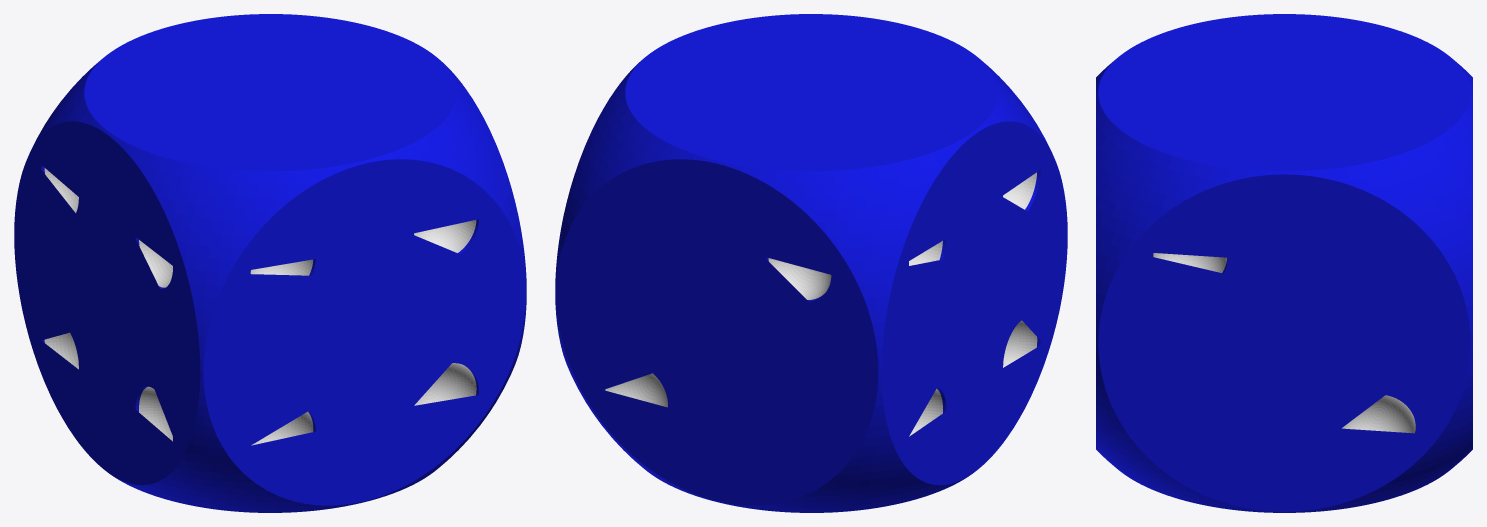
File: _ice3.fbx
The picture shows the model from 3 angles, left to right: view 1: azimuth 30°, elevation 25°; view 2: azimuth 150°, elevation 25°; view 3: azimuth 270°, elevation 25°; orthographic projection.
Visible parts, largest first — view 1: Cube; view 2: Cube; view 3: Cube.
Part boxes in pixels (x1,y1,x2,y2): Cube: (14, 14, 526, 512); Cube: (555, 14, 1067, 512); Cube: (1096, 14, 1472, 512).
Size of the model in its own units: 200 by 200 by 200.
